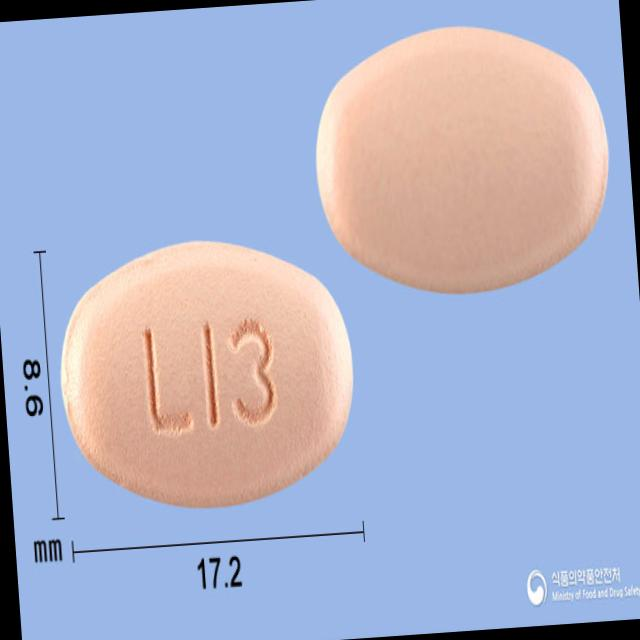Levoable: (52, 229, 362, 516)
